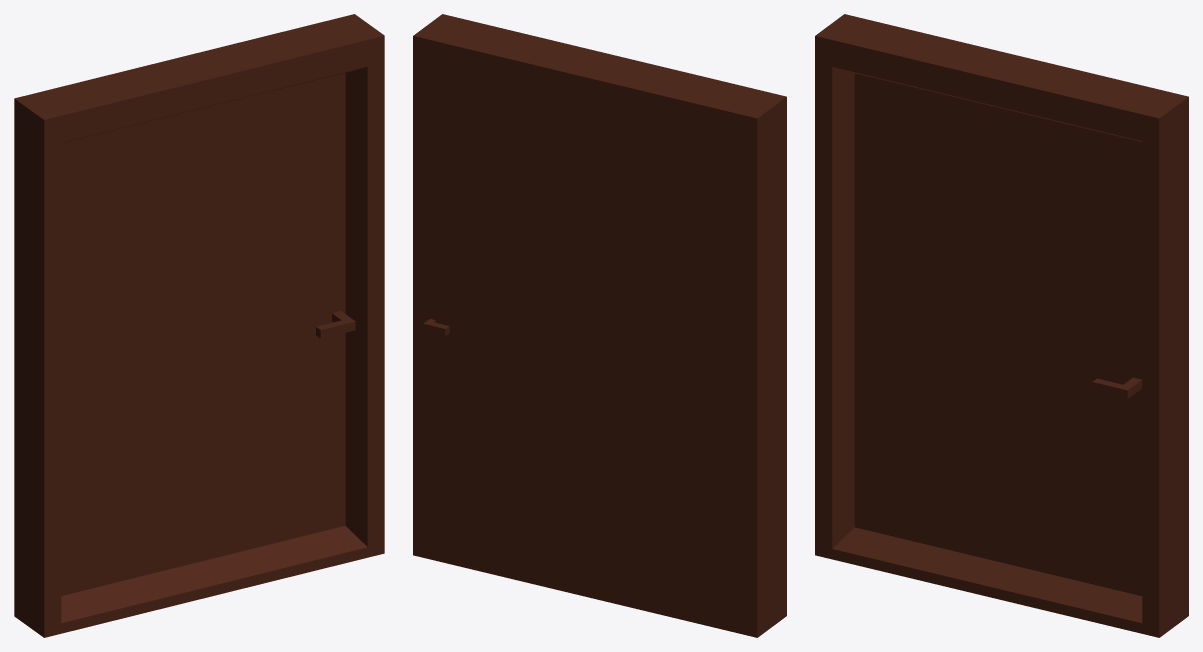
File: door.fbx
The picture shows the model from 3 angles, left to right: view 1: azimuth 30°, elevation 25°; view 2: azimuth 150°, elevation 25°; view 3: azimuth 330°, elevation 25°; orthographic projection.
Parts seen in each view (by area): view 1: Куб.011; view 2: Куб.011; view 3: Куб.011.
Part boxes in pixels (x1,y1,x2,y2): Куб.011: [14, 14, 384, 637]; Куб.011: [413, 14, 786, 637]; Куб.011: [815, 14, 1188, 637].
Bounding box in the file's own units: 177 × 255 × 33.72.
